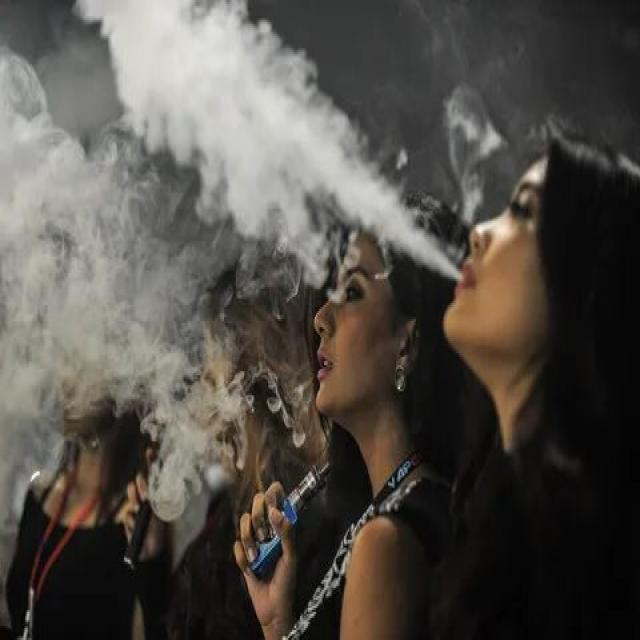smoke: (246, 455, 338, 572), (123, 481, 161, 574)
